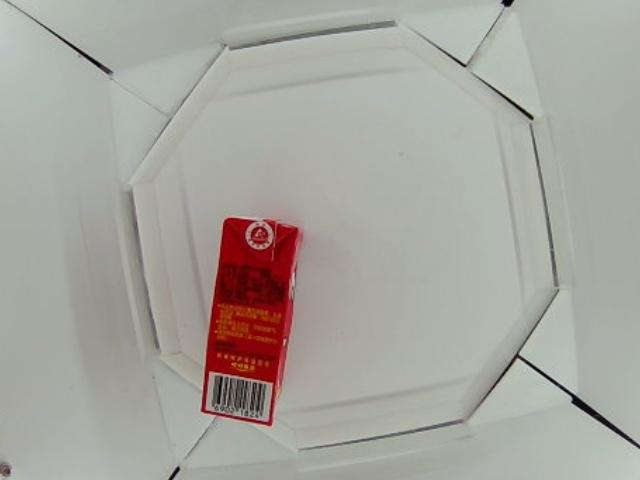Bottle: (206, 217, 301, 427)
